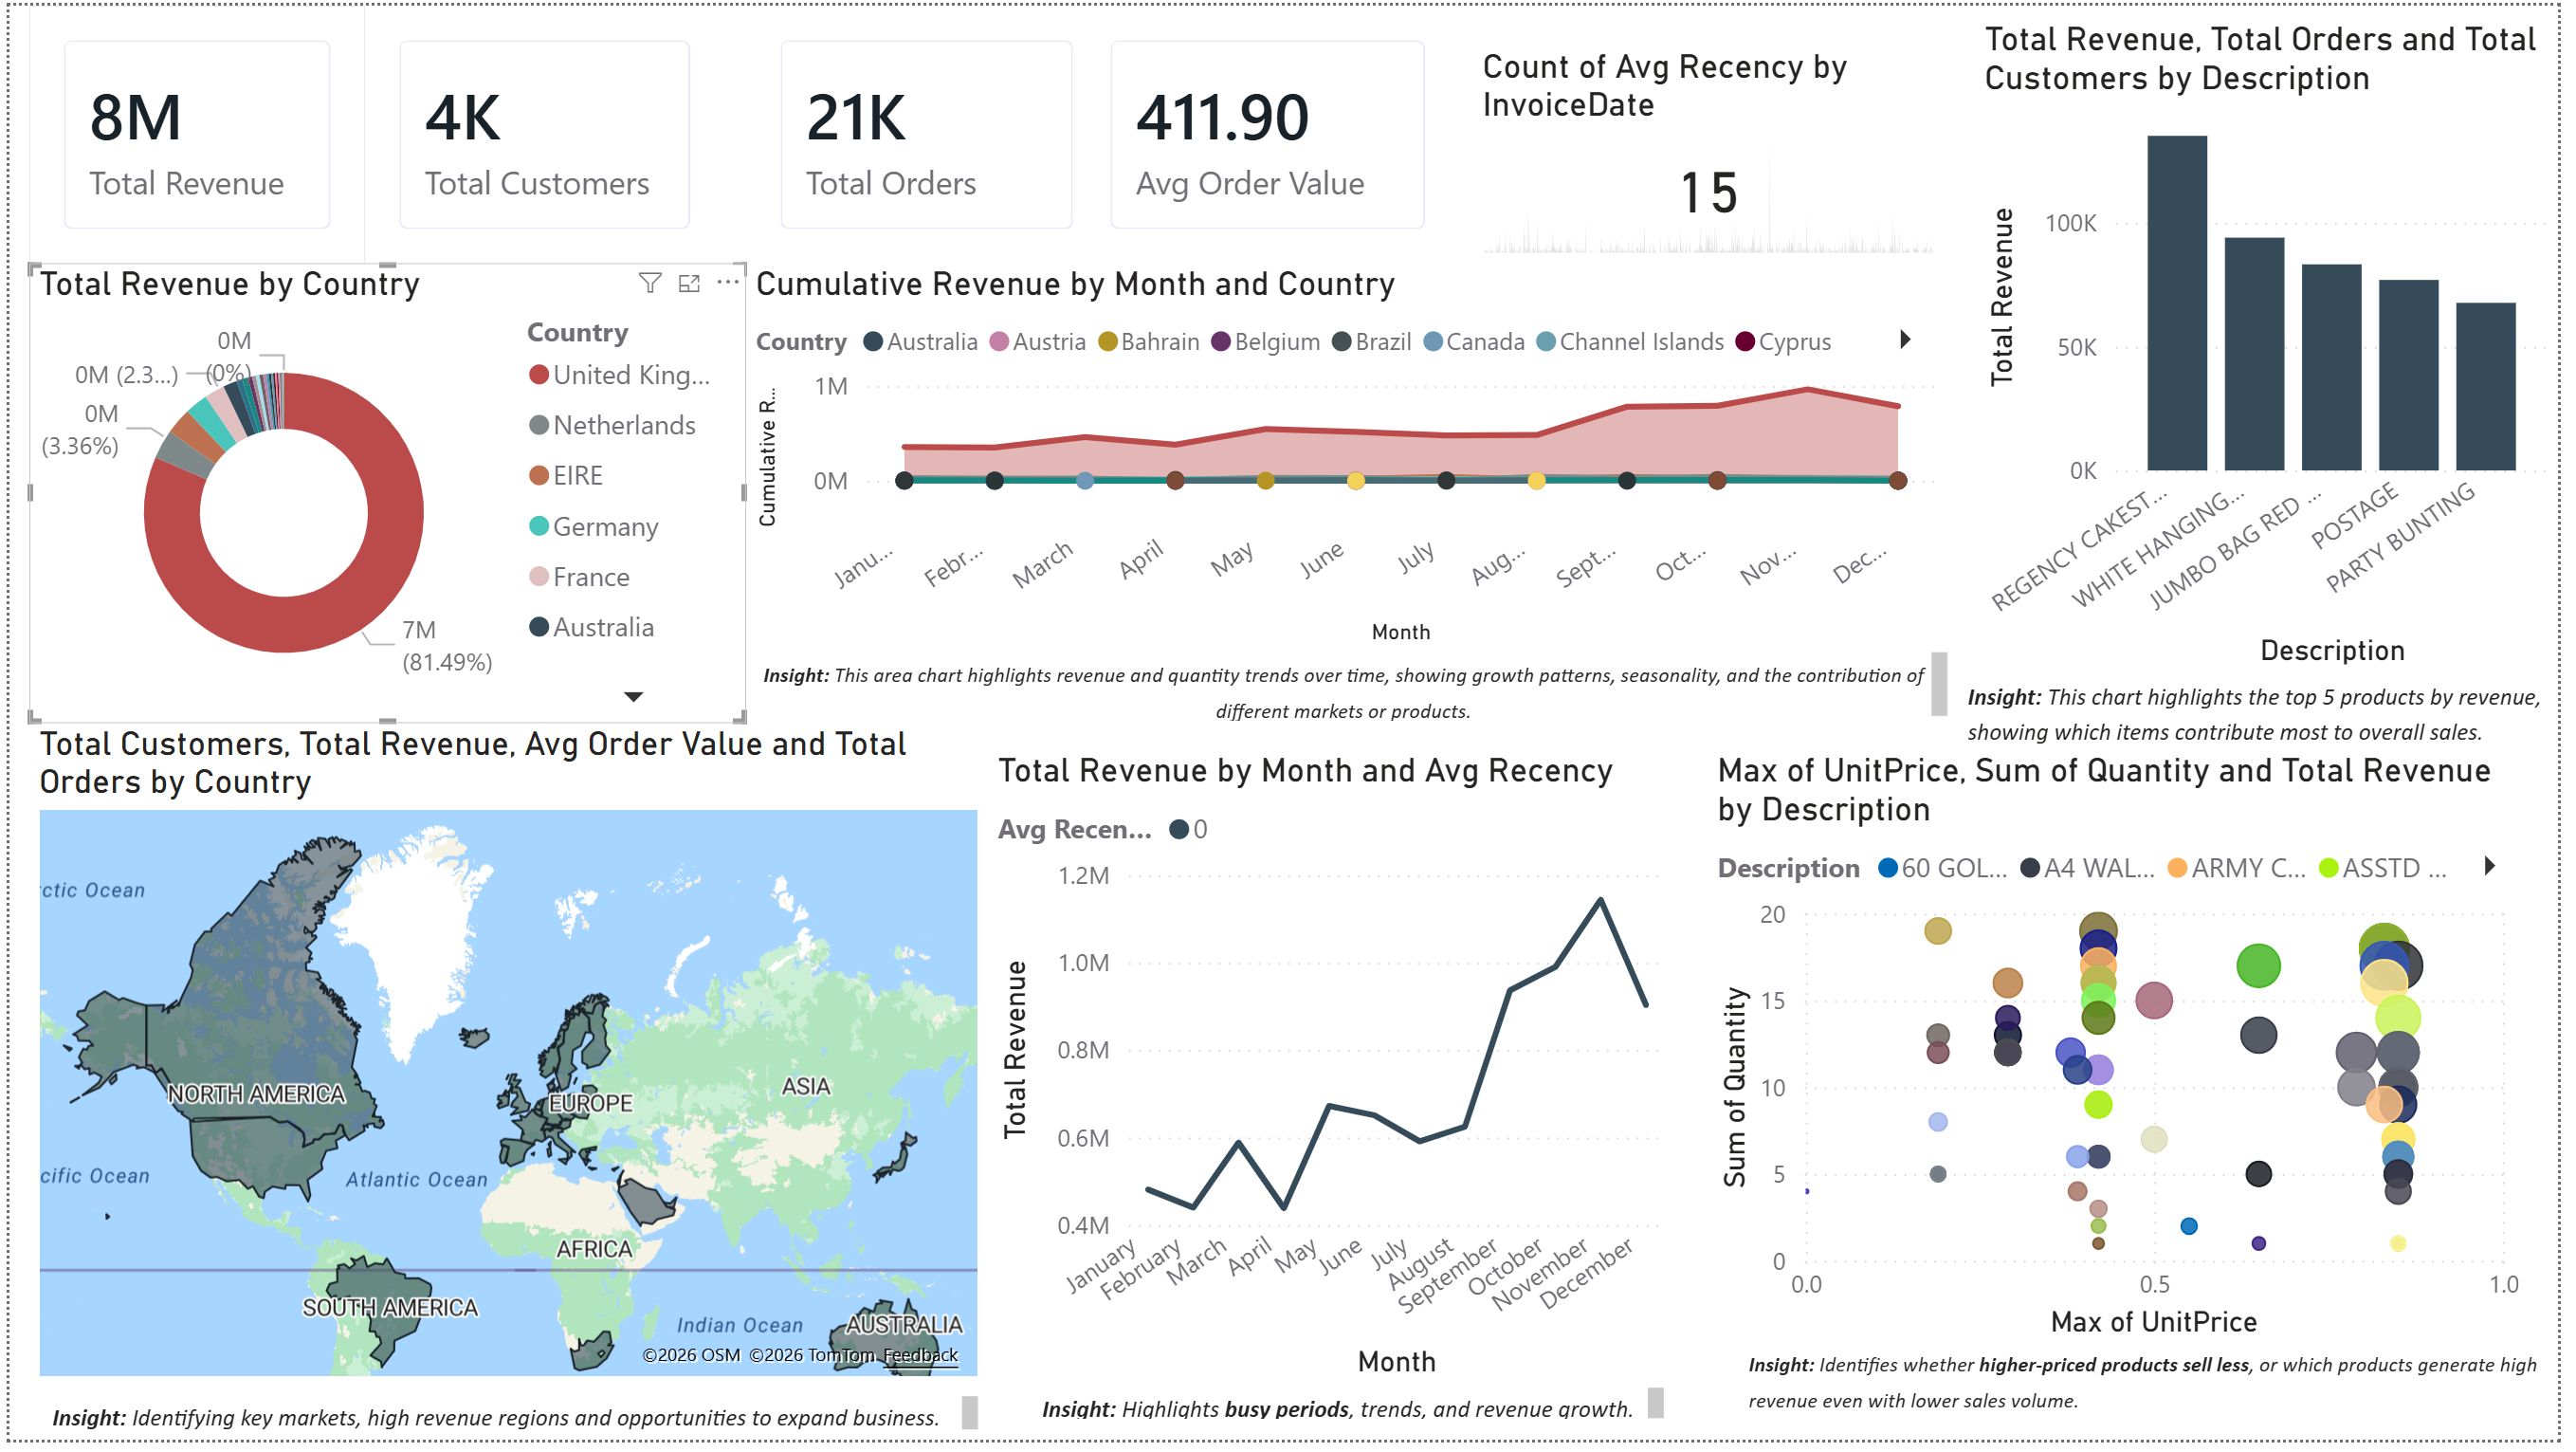

This screenshot's page, from the dashboard's own definition file:
{"tool":"powerbi","page":{"name":"Page 1","canvas":[1280,720],"ordinal":0},"visuals":[{"type":"cardVisual","fields":{"Data":["Online Retail.Total Revenue"]},"box":[9.8,0,168.7,129.5],"z":0},{"type":"cardVisual","fields":{"Data":["Online Retail.Total Customers"]},"box":[178.5,0,180.5,129.5],"z":1000},{"type":"cardVisual","fields":{"Data":["Online Retail.Total Orders"]},"box":[370.1,0,181.1,129.5],"z":2000},{"type":"cardVisual","fields":{"Data":["Online Retail.Avg Order Value"]},"box":[535.7,0,192.9,129.3],"z":3000},{"type":"azureMap","fields":{"Category":["Online Retail.Country"]},"box":[10,360,481.4,332.9],"z":4000},{"type":"textbox","box":[16.3,693.2,474.8,26.8],"z":5000},{"type":"clusteredColumnChart","fields":{"Category":["Online Retail.Description"],"Y":["Online Retail.Total Revenue"]},"box":[986.8,6.5,293,329.6],"z":6000},{"type":"textbox","box":[978.3,330.9,301.5,64.7],"z":7000},{"type":"lineChart","fields":{"Category":["Online Retail.InvoiceDate.Variation.Date Hierarchy.Month","Online Retail.InvoiceDate.Variation.Date Hierarchy.Day"],"Y":["Online Retail.Total Revenue"],"Series":["Online Retail.RFM_Segment"]},"box":[491.4,373.6,344.3,319.3],"z":8000},{"type":"textbox","box":[513.4,688.6,322.4,25.5],"z":9000},{"type":"scatterChart","fields":{"X":["Max(Online Retail.UnitPrice)"],"Y":["Sum(Online Retail.Quantity)"],"Size":["Online Retail.Total Revenue"],"Series":["Online Retail.Description"]},"box":[852.9,373.6,412.1,299.3],"z":10000},{"type":"textbox","box":[868.6,665.7,411.4,48.6],"z":11000},{"type":"kpi","fields":{"TrendLine":["Online Retail.InvoiceDate"],"Indicator":["CountNonNull(Online Retail.Avg Recency)"]},"box":[735,20,236.4,109.3],"z":12000},{"type":"donutChart","fields":{"Category":["Online Retail.Country"],"Y":["Online Retail.Total Revenue"]},"box":[10,129.3,360,230.7],"z":13000},{"type":"areaChart","fields":{"Category":["Online Retail.InvoiceDate.Variation.Date Hierarchy.Month","Online Retail.InvoiceDate.Variation.Date Hierarchy.Day"],"Series":["Online Retail.Country"],"Y":["Online Retail.Cumulative Revenue"]},"box":[370,129.3,601.4,195.7],"z":14000},{"type":"textbox","box":[370,319.3,608.6,44.3],"z":15000}]}

Visuals, with their boxes in screenshot pixels (x1, y1, x2, y2), scaled from the page's 1280x720 canvas onto the 2576x1452 screenshot:
cardVisual - Online Retail.Total Revenue: detection(20, 0, 359, 261)
cardVisual - Online Retail.Total Customers: detection(359, 0, 722, 261)
cardVisual - Online Retail.Total Orders: detection(745, 0, 1109, 261)
cardVisual - Online Retail.Avg Order Value: detection(1078, 0, 1467, 261)
azureMap - Online Retail.Country: detection(20, 726, 989, 1397)
textbox: detection(33, 1398, 988, 1451)
clusteredColumnChart - Online Retail.Description x Online Retail.Total Revenue: detection(1986, 13, 2575, 678)
textbox: detection(1969, 668, 2575, 798)
lineChart - Online Retail.InvoiceDate.Variation.Date Hierarchy.Month x Online Retail.InvoiceDate.Variation.Date Hierarchy.Day: detection(989, 753, 1682, 1397)
textbox: detection(1033, 1388, 1682, 1440)
scatterChart - Max(Online Retail.UnitPrice) x Sum(Online Retail.Quantity): detection(1716, 753, 2546, 1357)
textbox: detection(1748, 1343, 2575, 1441)
kpi - Online Retail.InvoiceDate x CountNonNull(Online Retail.Avg Recency): detection(1479, 41, 1955, 261)
donutChart - Online Retail.Country x Online Retail.Total Revenue: detection(20, 261, 744, 726)
areaChart - Online Retail.InvoiceDate.Variation.Date Hierarchy.Month x Online Retail.InvoiceDate.Variation.Date Hierarchy.Day: detection(744, 261, 1955, 655)
textbox: detection(744, 644, 1969, 733)
